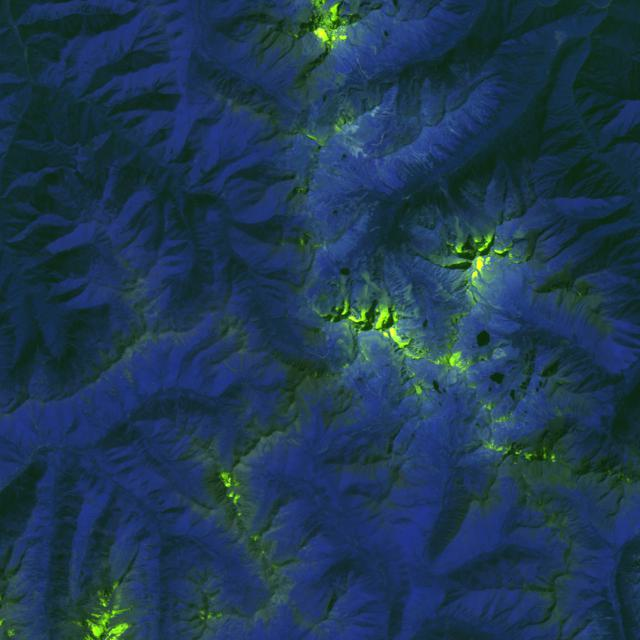landslides: (21, 403, 43, 439), (410, 144, 433, 170), (356, 57, 371, 81), (411, 152, 427, 170), (224, 360, 236, 375), (446, 126, 462, 137), (143, 167, 152, 186), (26, 400, 34, 418), (402, 167, 414, 177)
